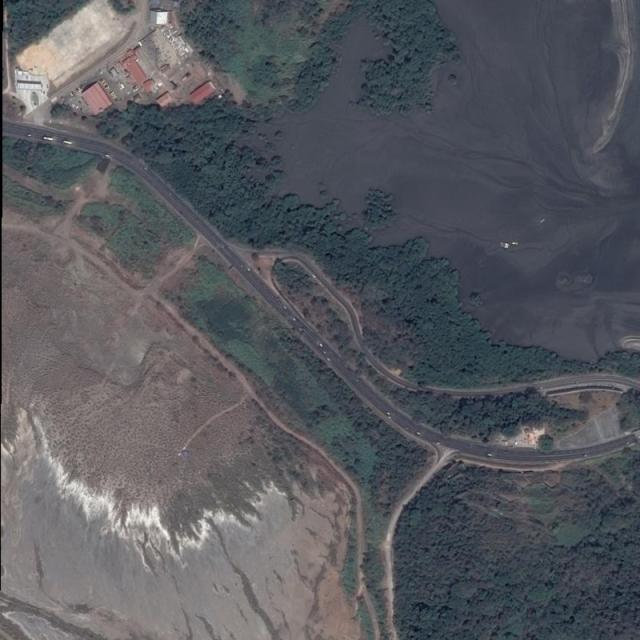vehicle: (44, 136, 54, 142), (62, 140, 72, 145)
